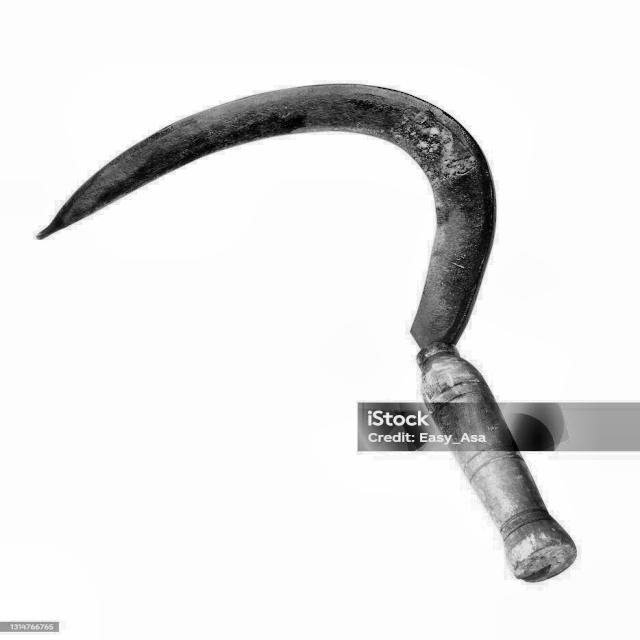celurit: (21, 71, 594, 614)
